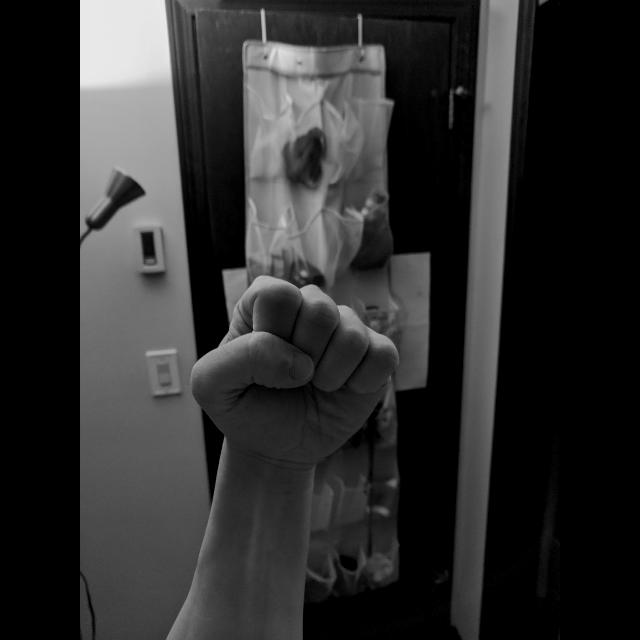S: (186, 269, 404, 475)
